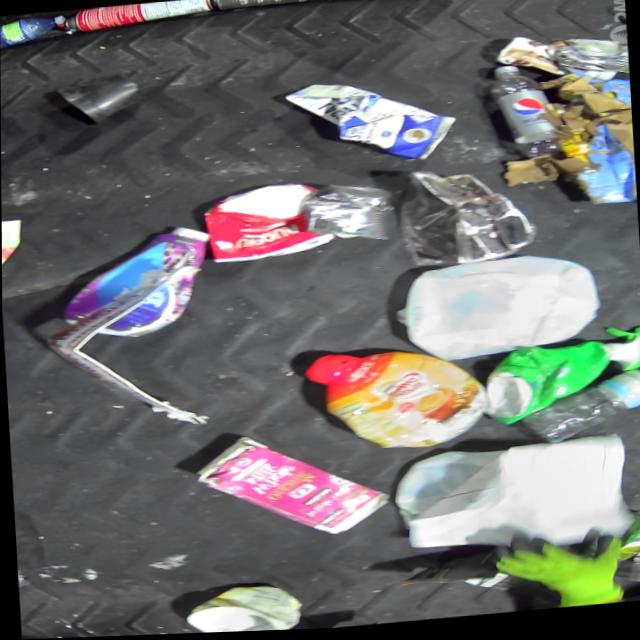can: (302, 182, 395, 250), (57, 0, 217, 34), (556, 38, 630, 86), (614, 514, 640, 566), (216, 0, 311, 14)
milk_jug: (399, 253, 602, 369)
non_white_jug: (191, 425, 391, 549), (303, 343, 489, 461), (480, 327, 640, 431)
plastic_bottle: (516, 371, 640, 451), (489, 65, 569, 166), (0, 14, 67, 52)
